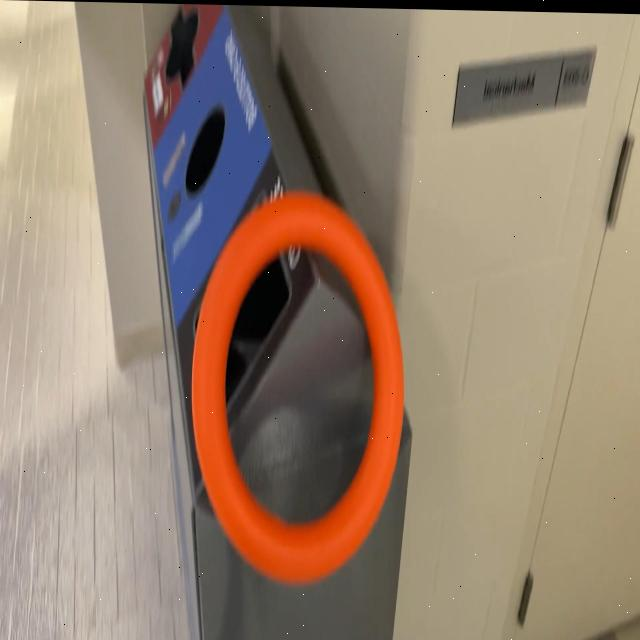note: (188, 184, 406, 590)
